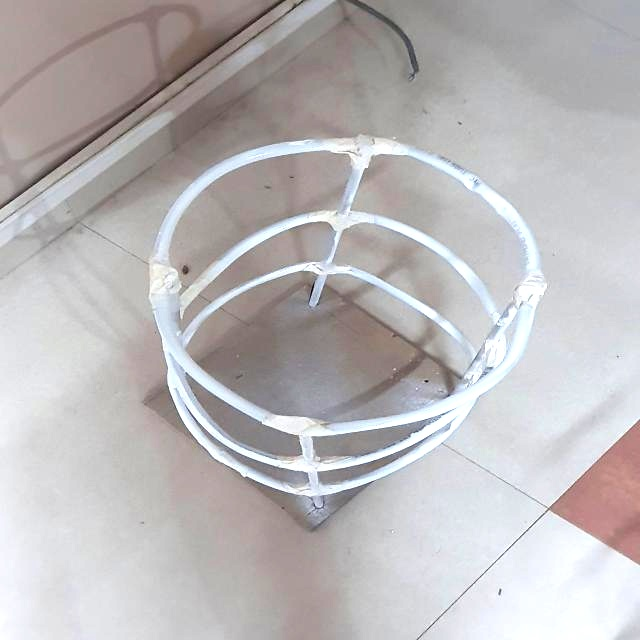silo: (133, 130, 554, 519)
